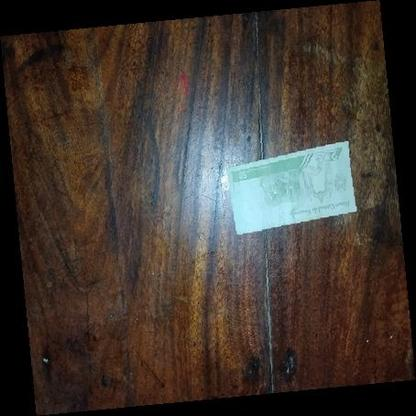fifty-back-vef: (226, 140, 358, 235)
